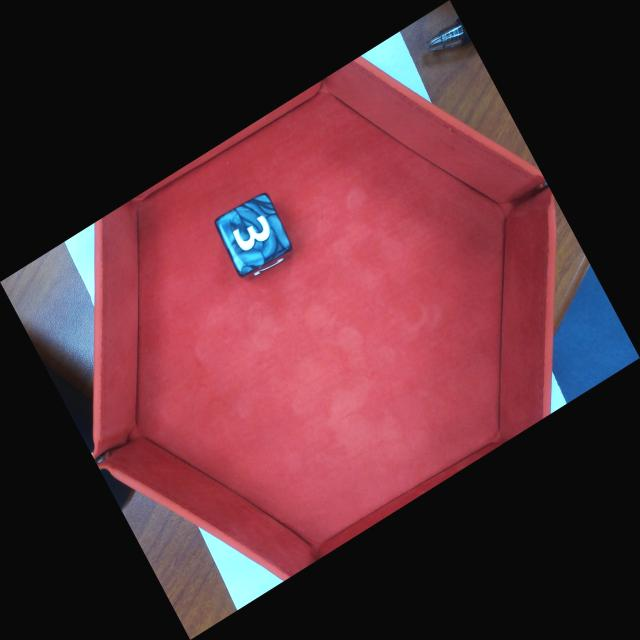dice: (214, 193, 292, 277)
